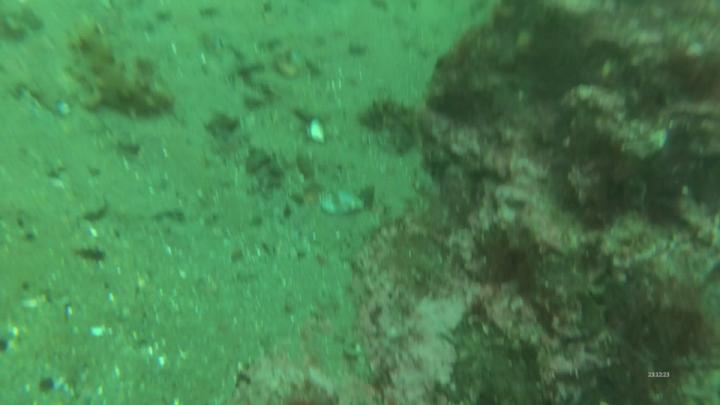holothurian: (63, 22, 177, 122), (360, 95, 423, 157)
